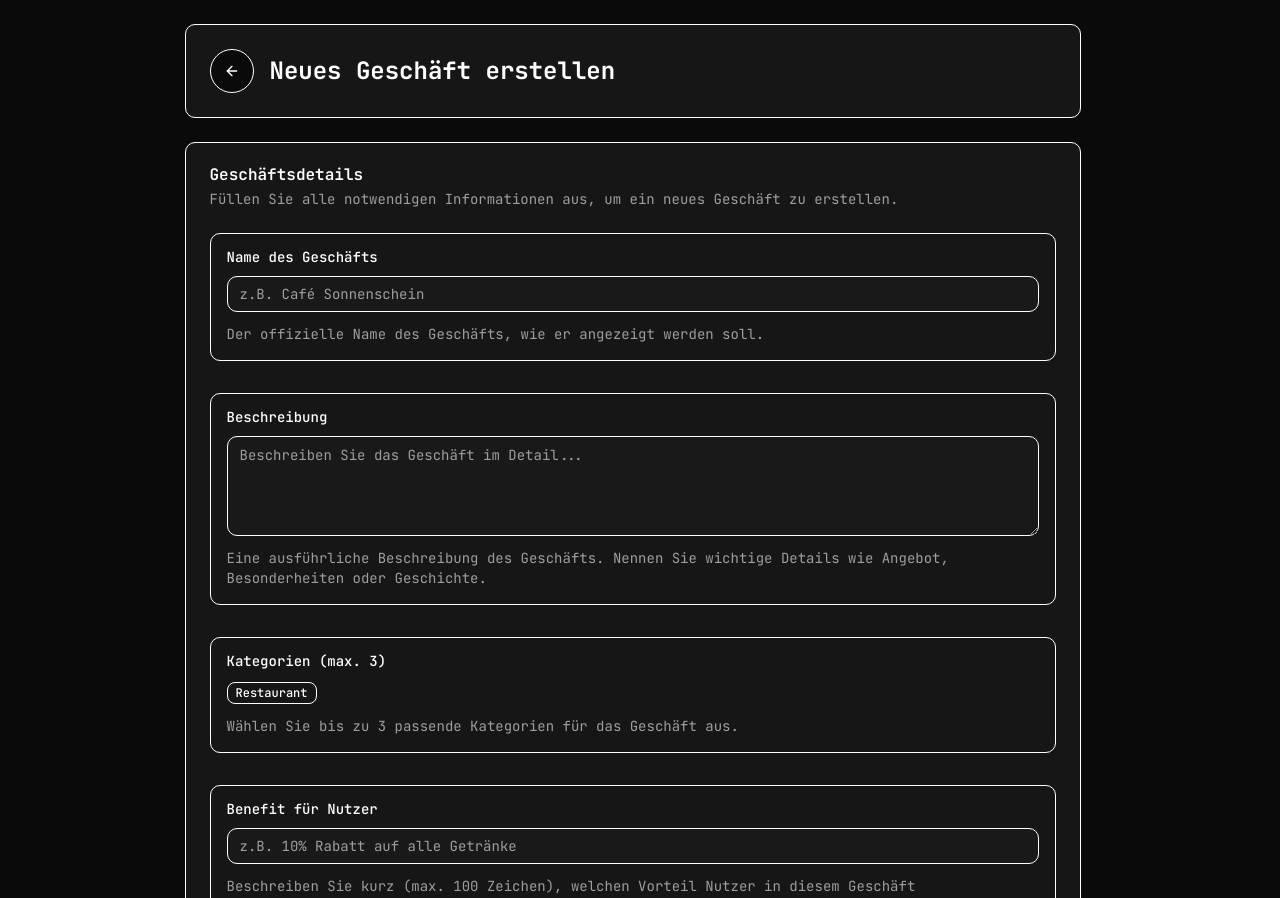
Test: CreateBusiness Component › Category and Keyword Selection › sollte Keywords anzeigen wenn Kategorien ausgewählt sind
What coordinates should you click on to do the following:
click the text "Restaurant"
I would click on:
 (272, 693)
Its box is [226, 682, 316, 704].
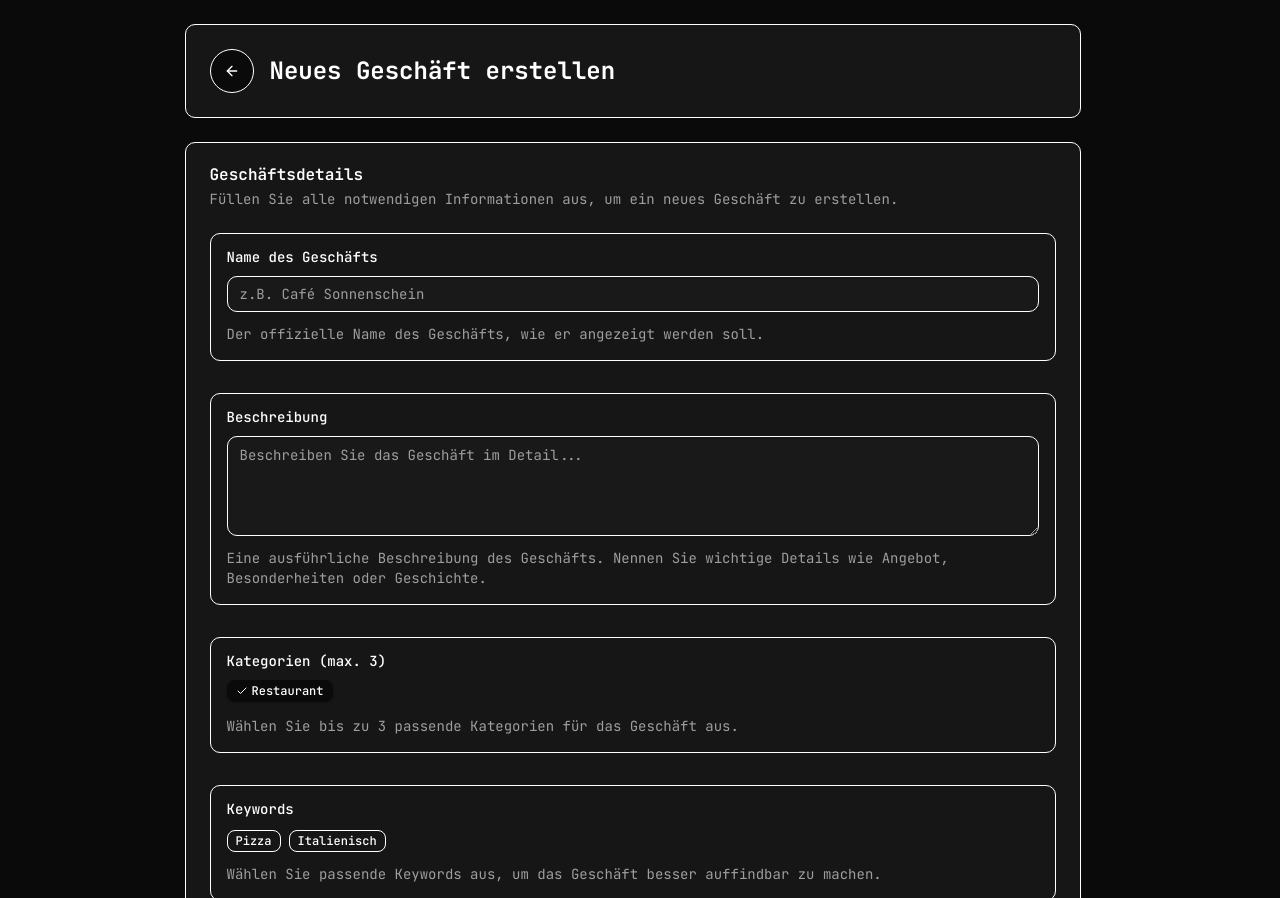
Expected: the text "Keywords" is shown, [226, 800, 294, 818]
Expected: the text "Pizza" is shown, [226, 830, 280, 852]
